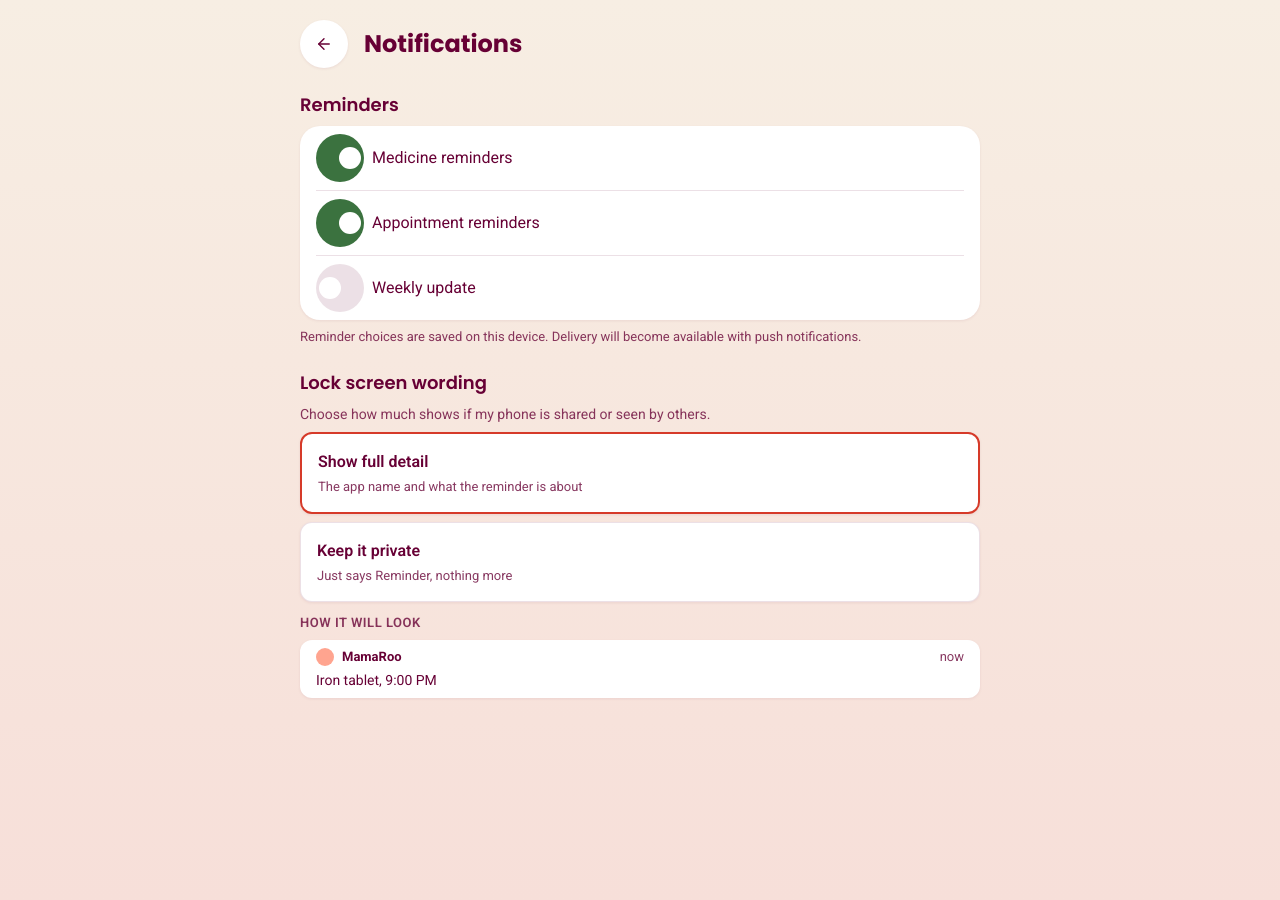
Test: NotificationsScreen › persists privacy immediately and updates the preview
Click the button "Keep it private".
click(369, 550)  # box [300,522,980,602]
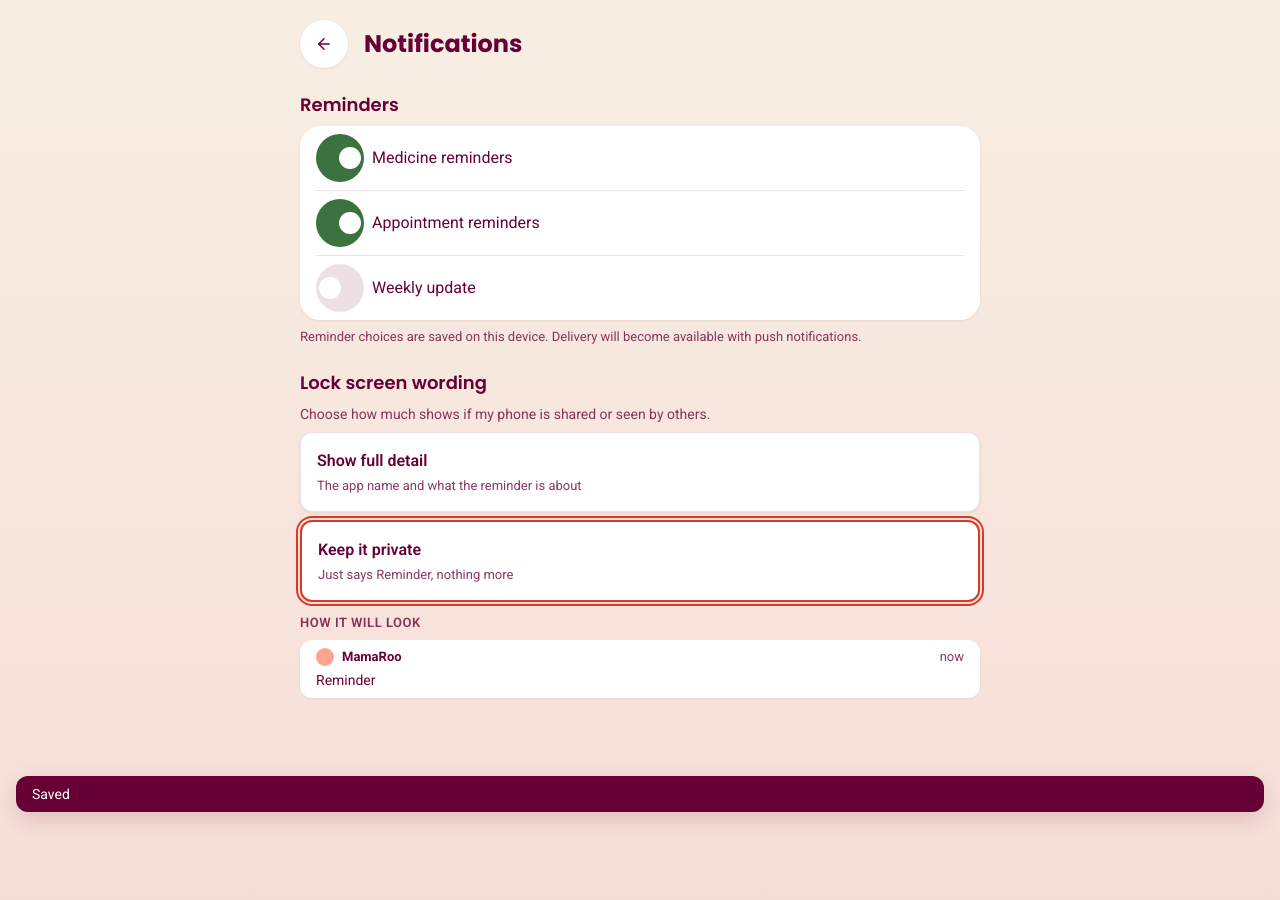
Check: the text "Reminder" is shown, box [316,672,376,688]
